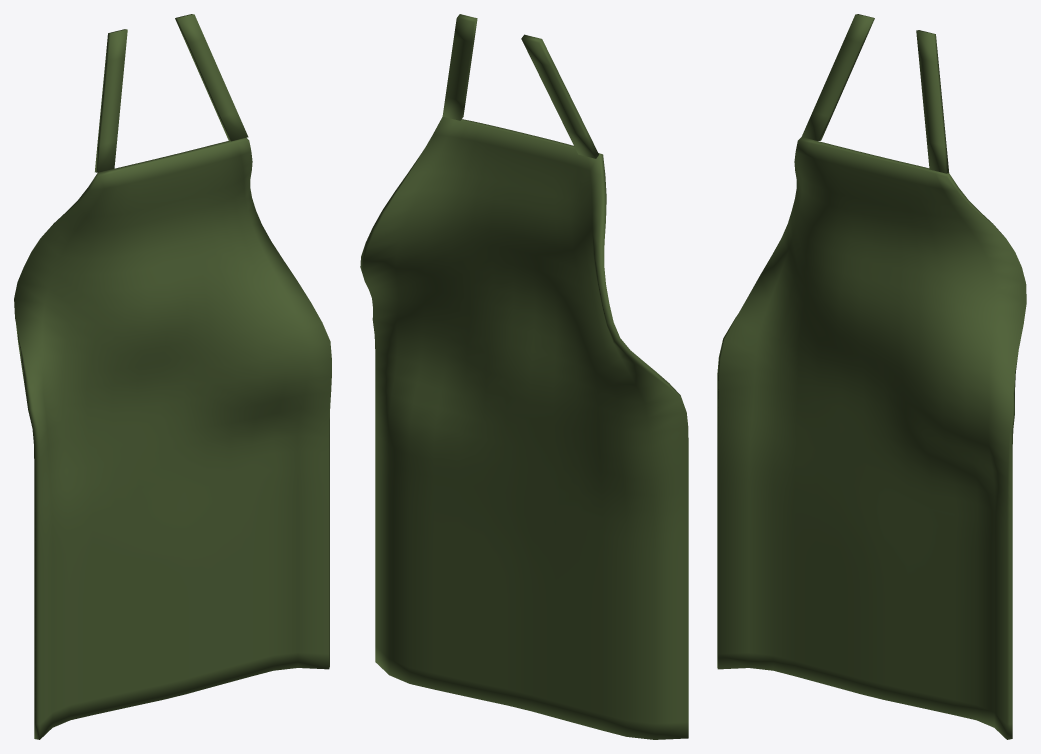
Rendered from kleidung.schuerze.glb.
3 renders of one model, left to right at view 1: azimuth 30°, elevation 25°; view 2: azimuth 150°, elevation 25°; view 3: azimuth 330°, elevation 25°, orthographic. The views are drawn at different scales.
Parts seen in each view (by area): view 1: schuerze; view 2: schuerze; view 3: schuerze.
Part boxes in pixels (box(x1,y1,x2,y2)): schuerze: box(14, 14, 331, 739); schuerze: box(360, 14, 688, 739); schuerze: box(717, 14, 1026, 739).
Size of the model in its own units: 0.44 by 0.9359 by 0.1252.
